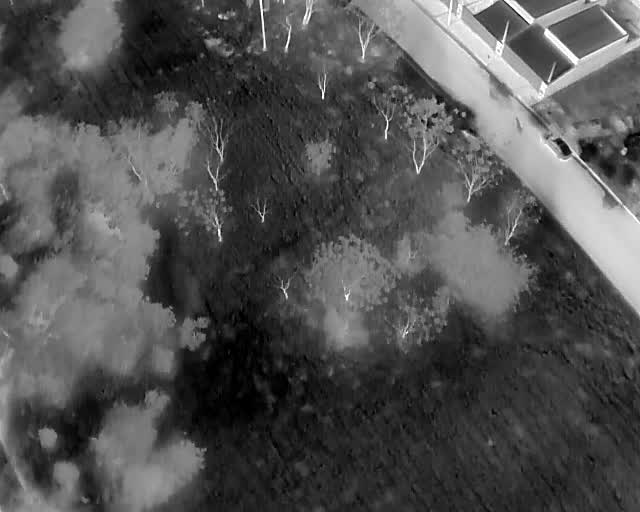car: (540, 130, 572, 160)
